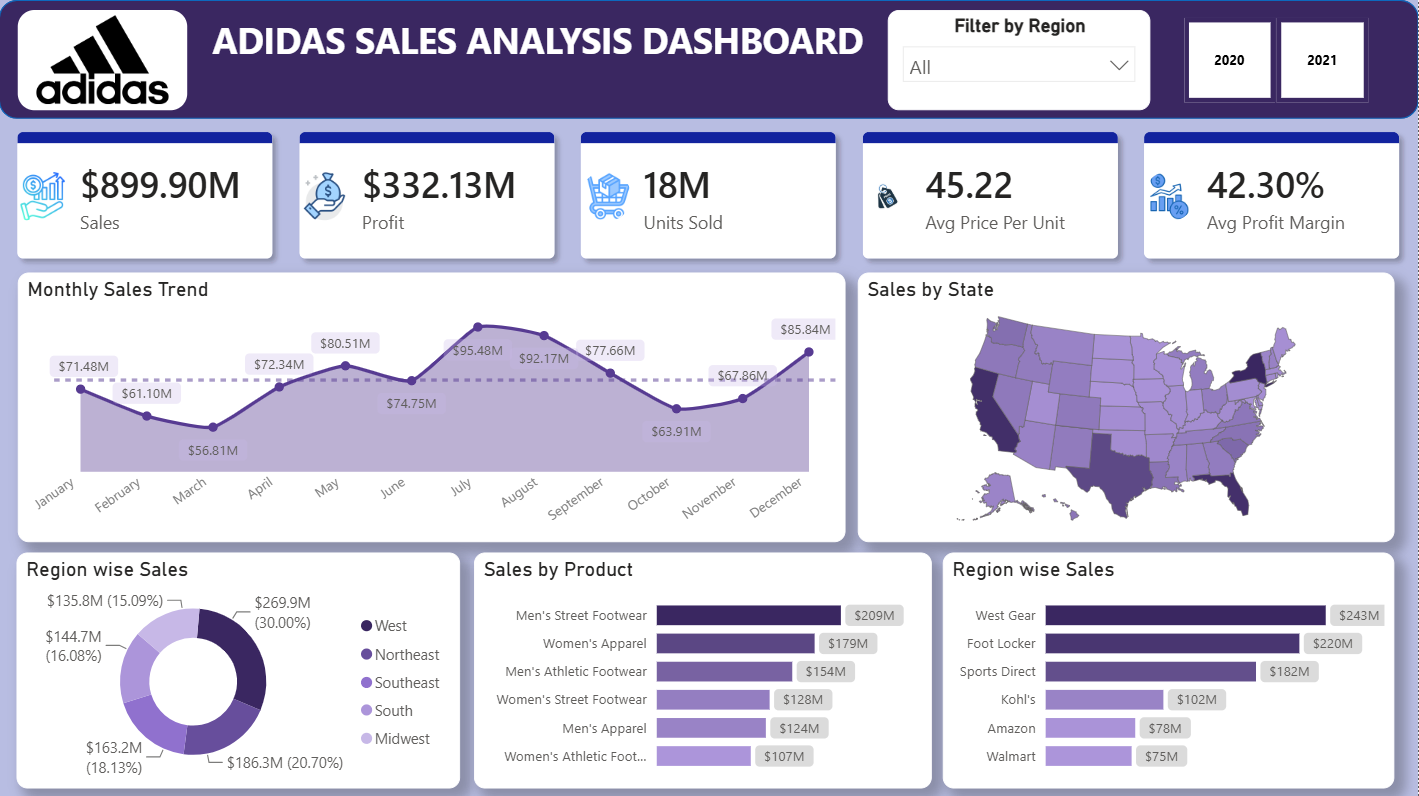

Layout of this report page (visuals, bound fields, positions):
{"tool":"powerbi","page":{"name":"Page 1","canvas":[1280,720],"ordinal":0},"visuals":[{"type":"shape","box":[0,0,1280,107.1],"z":0},{"type":"image","box":[17.1,8.6,152.9,90],"z":1000},{"type":"textbox","box":[181.4,14.3,608.6,71.4],"z":2000},{"type":"slicer","title":"Filter by Region","fields":{"Values":["Data Sales Adidas.Region"]},"box":[801.4,8.6,237.1,90],"z":3000},{"type":"slicer","title":"Filter by Region","fields":{"Values":["Data Sales Adidas.Invoice Date.Variation.Date Hierarchy.Year"]},"box":[1042.9,8.6,215.7,90],"z":4000},{"type":"cardVisual","fields":{"Data":["KPI.Sales","KPI.Profit","KPI.Units Sold","KPI.Avg Price Per Unit","KPI.Avg Profit Margin"]},"box":[4.3,107.1,1270,138.6],"z":5000},{"type":"areaChart","title":"Monthly Sales Trend","fields":{"Category":["Data Sales Adidas.Invoice Date.Variation.Date Hierarchy.Month"],"Y":["KPI.Sales"]},"box":[16.5,245.6,746.5,242.9],"z":5001},{"type":"shapeMap","title":"Sales by State","fields":{"Category":["Data Sales Adidas.State"],"Value":["KPI.Sales"]},"box":[773.9,245.6,484.4,242.9],"z":5002},{"type":"donutChart","title":"Region wise Sales","fields":{"Category":["Data Sales Adidas.Region"],"Y":["KPI.Sales"]},"box":[16.2,498.8,400,212.5],"z":5003},{"type":"barChart","title":"Sales by Product","fields":{"Y":["KPI.Sales"],"Category":["Data Sales Adidas.Product"]},"box":[428.8,498.8,412.5,212.5],"z":5004},{"type":"barChart","title":"Region wise Sales","fields":{"Y":["KPI.Sales"],"Category":["Data Sales Adidas.Retailer"]},"box":[851.2,498.8,407.5,212.5],"z":5005}]}

Visuals, with their boxes in screenshot pixels (x1, y1, x2, y2), scaled from the page's 1280x720 canvas onto the 1419x796 screenshot:
shape: detection(0, 0, 1418, 118)
image: detection(19, 10, 188, 109)
textbox: detection(201, 16, 876, 95)
"Filter by Region" slicer: detection(888, 10, 1151, 109)
"Filter by Region" slicer: detection(1156, 10, 1395, 109)
cardVisual - KPI.Sales x KPI.Profit: detection(5, 118, 1413, 272)
"Monthly Sales Trend" areaChart: detection(18, 272, 846, 540)
"Sales by State" shapeMap: detection(858, 272, 1395, 540)
"Region wise Sales" donutChart: detection(18, 551, 461, 786)
"Sales by Product" barChart: detection(475, 551, 933, 786)
"Region wise Sales" barChart: detection(944, 551, 1395, 786)
